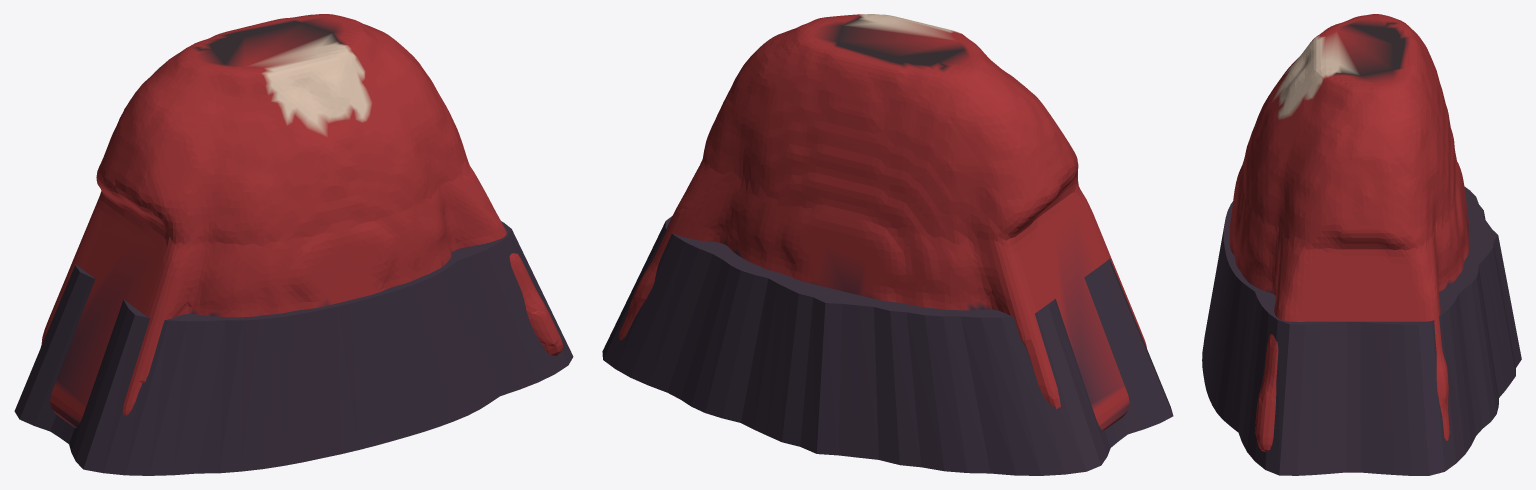
The model's file is torso.glb.
3 renders of one model, left to right at view 1: azimuth 30°, elevation 25°; view 2: azimuth 150°, elevation 25°; view 3: azimuth 270°, elevation 25°, orthographic. The views are drawn at different scales.
Visible parts, largest first — view 1: geometry_0; view 2: geometry_0; view 3: geometry_0.
Part boxes in pixels (x1,y1,x2,y2): geometry_0: (14,14,573,475); geometry_0: (602,14,1173,475); geometry_0: (1202,14,1521,475).
Bounding box in the file's own units: 0.5619 × 0.3765 × 0.3498.
